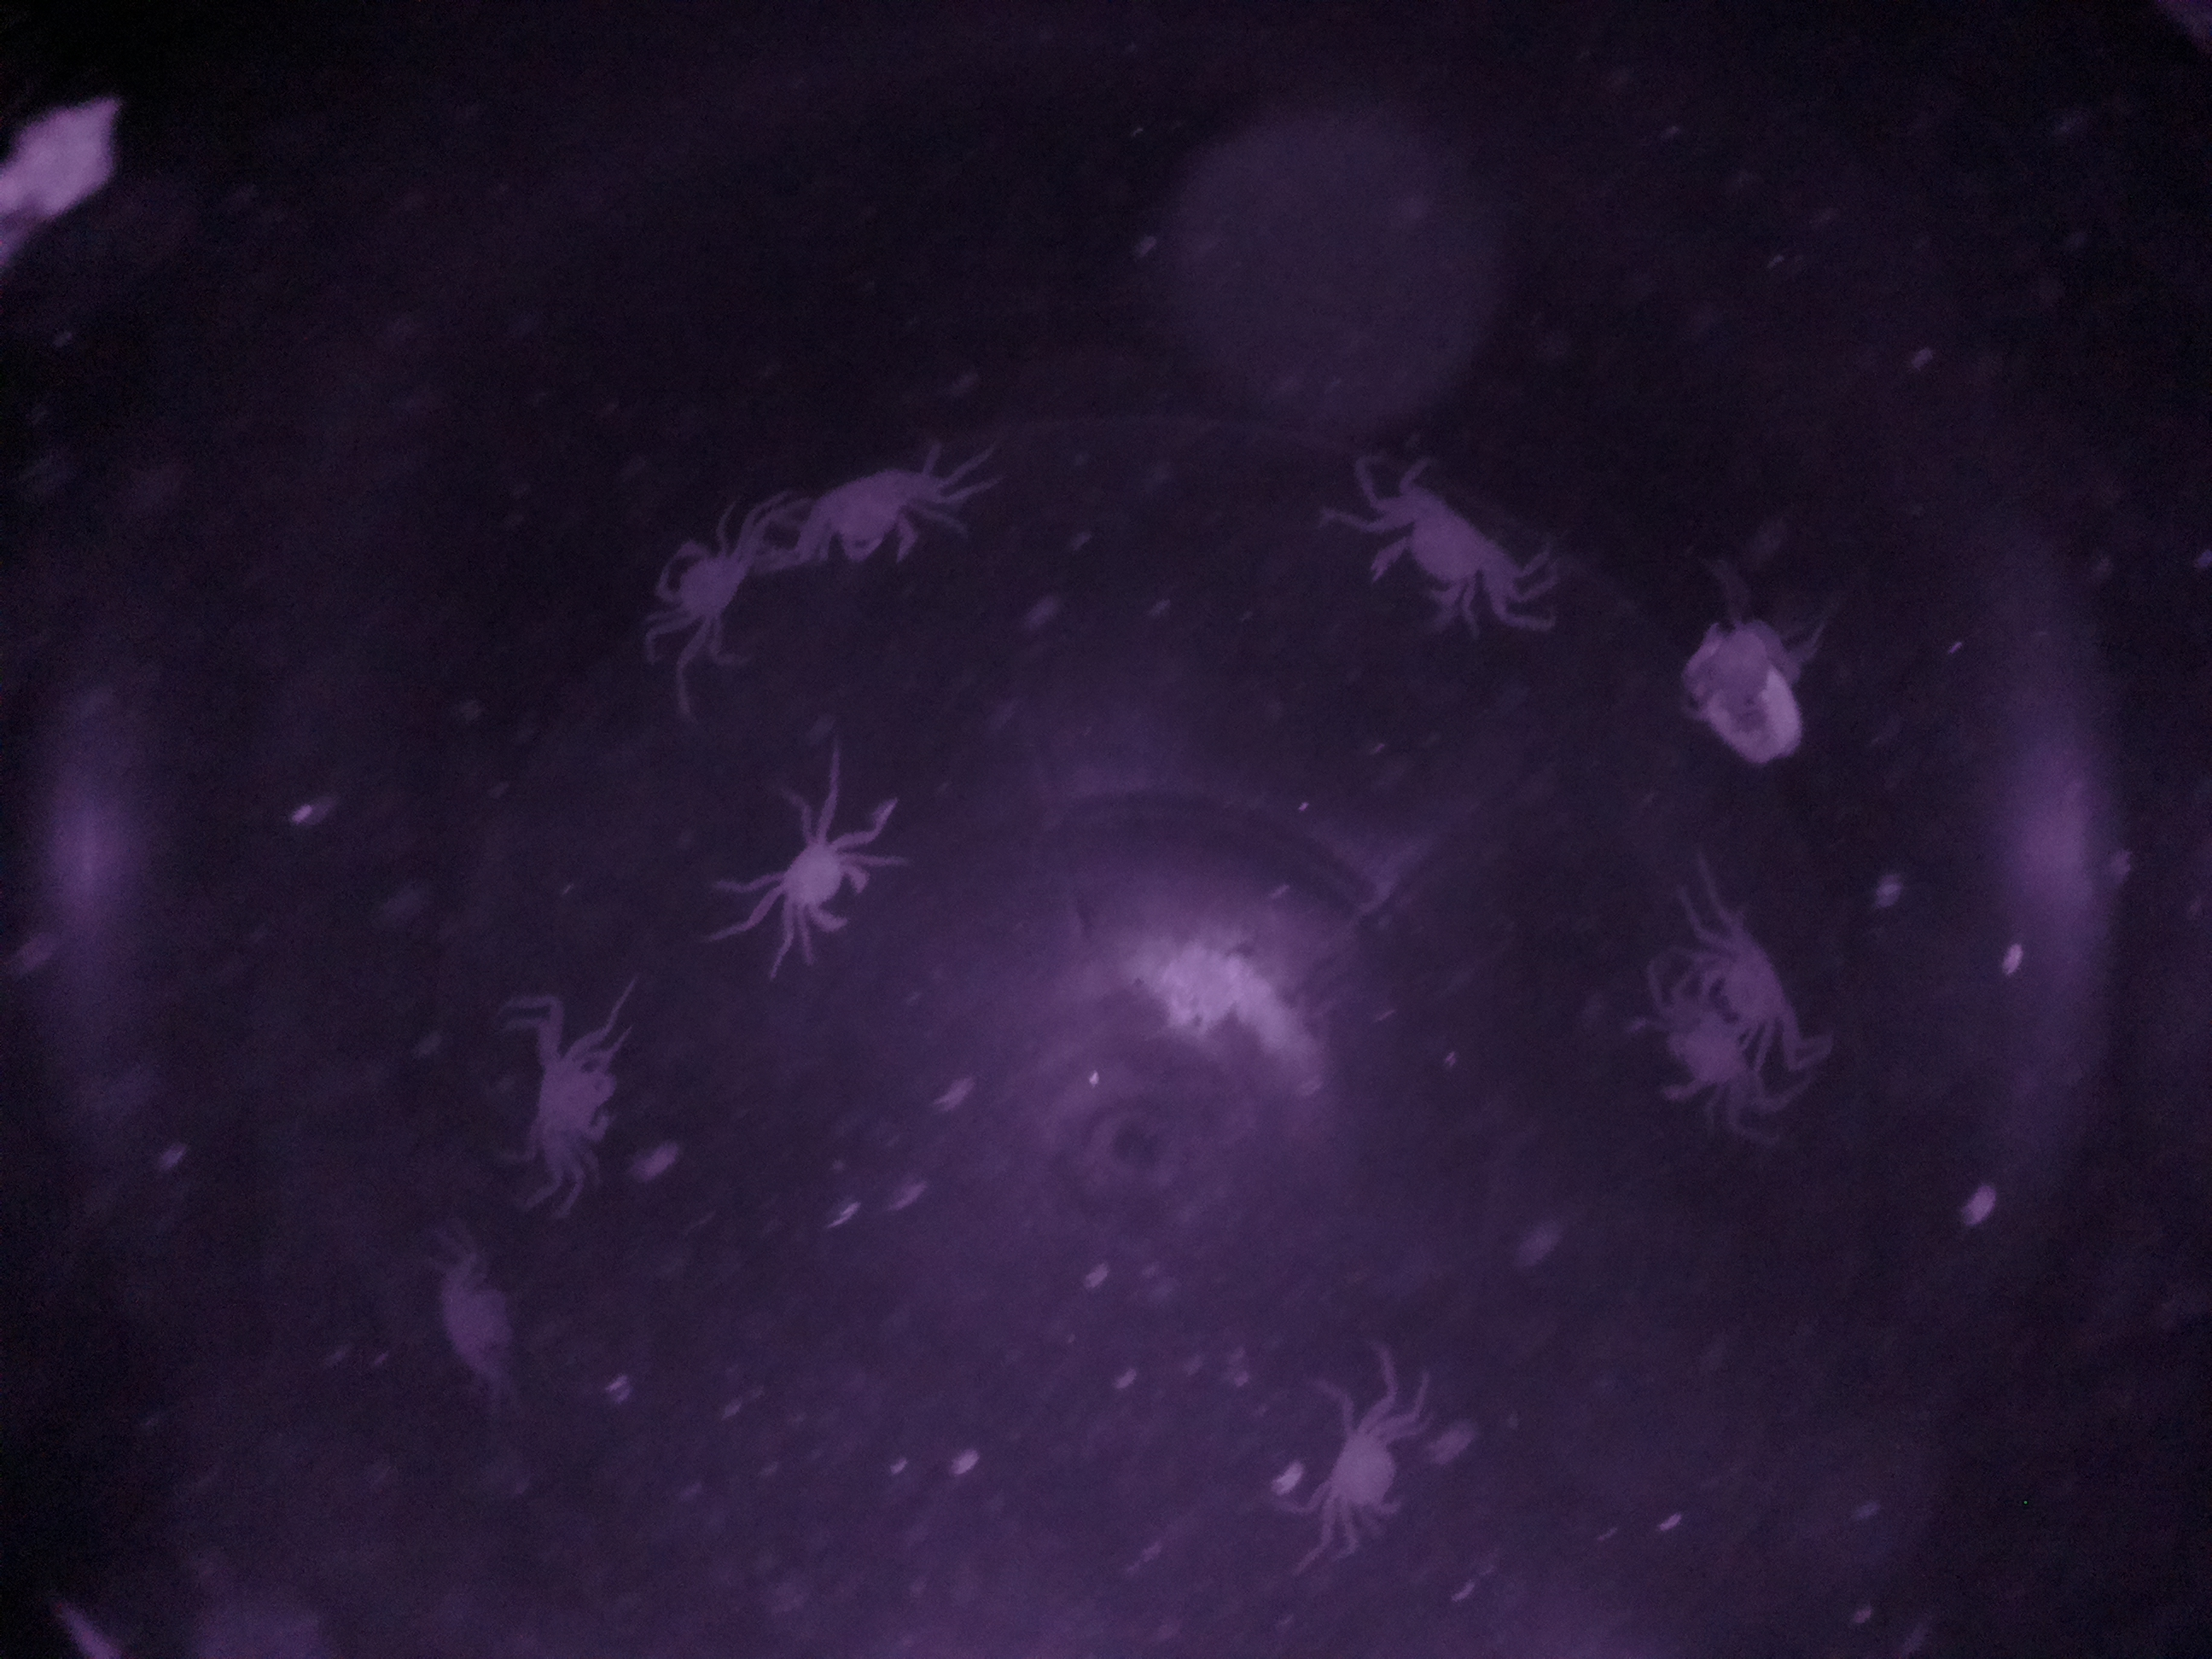Crab: (1339, 464, 1548, 640), (496, 995, 657, 1201), (1298, 1356, 1447, 1567), (773, 437, 960, 589), (733, 791, 897, 964), (627, 504, 779, 662)
